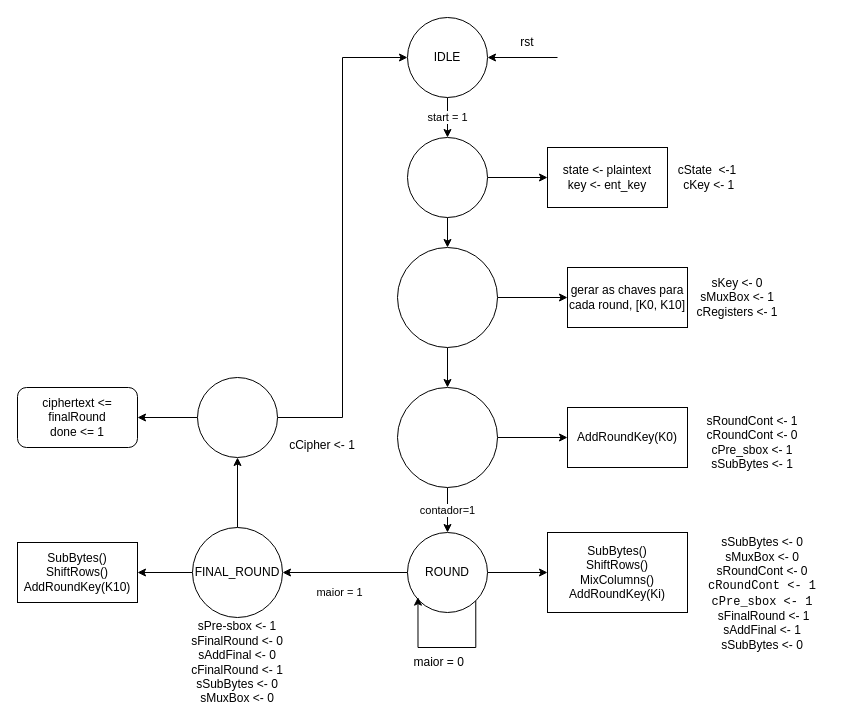
The diagram is 845 pixels wide and 723 high, and some of its shapes have lost their labels. The centre of each missing label's shape, as x and y in pixels:
"DONE" goes at point 237,417.
"INITIAL_ROUND" goes at point 447,437.
"KEY_EXPANSION" goes at point 447,297.
"LOAD" goes at point 447,177.
